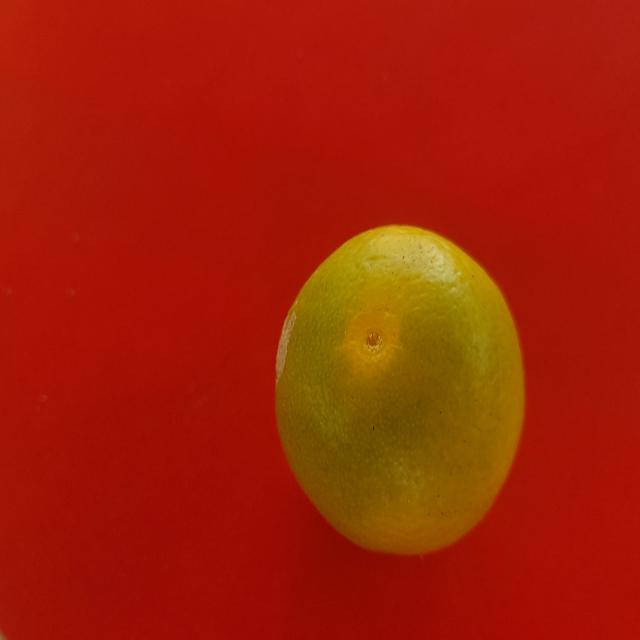greening: (272, 232, 534, 538)
